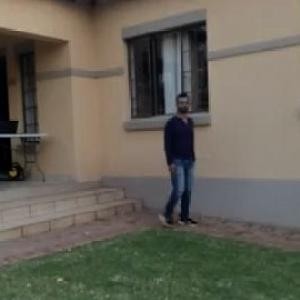follow: (155, 87, 199, 232)
